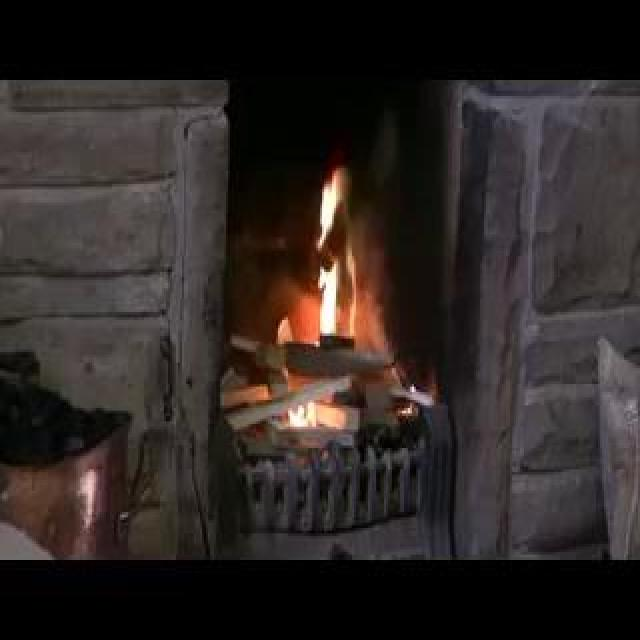Fire: (78, 144, 326, 278)
